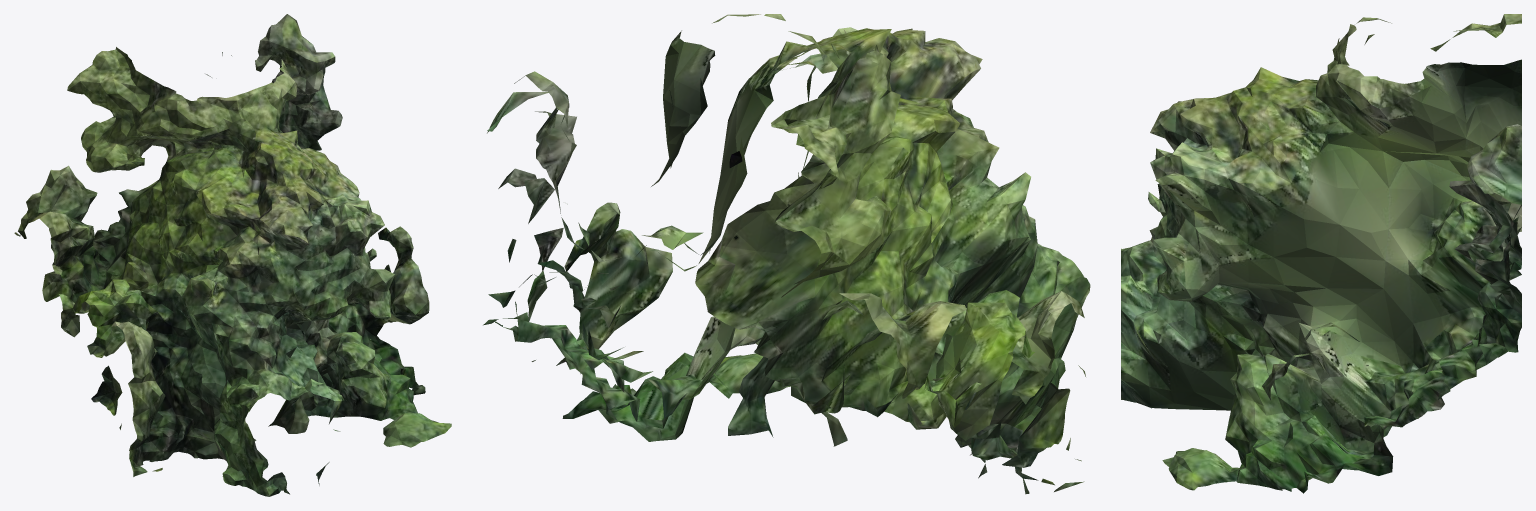
The picture shows the model from 3 angles, left to right: view 1: azimuth 30°, elevation 25°; view 2: azimuth 150°, elevation 25°; view 3: azimuth 270°, elevation 25°; orthographic projection. The views are drawn at different scales.
Size of the model in its own units: 26.11 by 26.11 by 26.11.
Materials: 8 (8 with a texture image).
